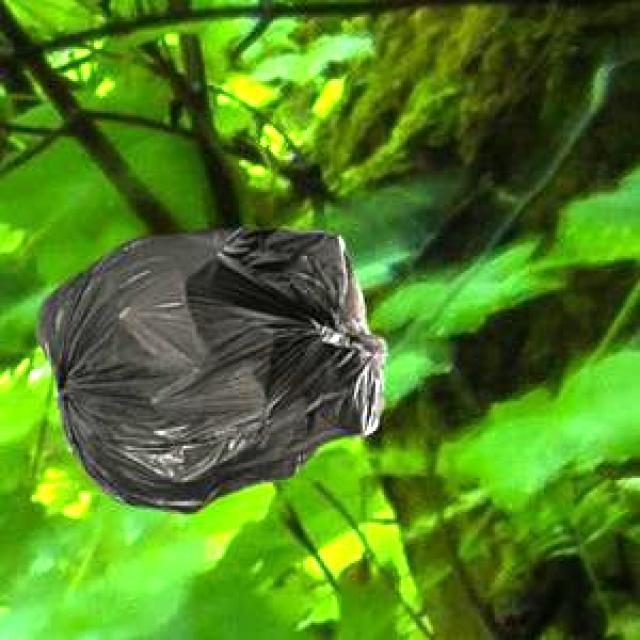Garbage_Bag: (33, 225, 383, 511)
